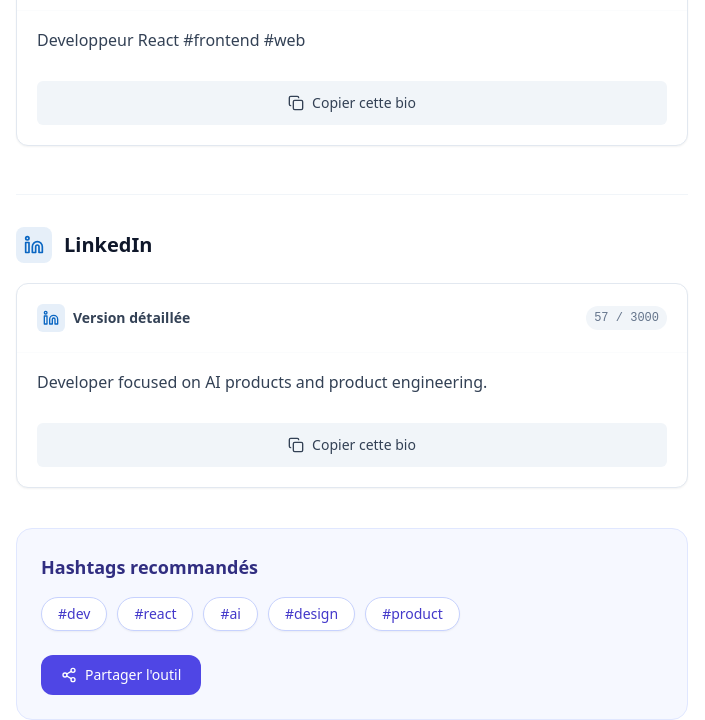
BioResults › copie un hashtag et un statut
The image size is (705, 720).
(page scrolled)
Click the button "#dev" at (74, 614), box [41,597,107,631]
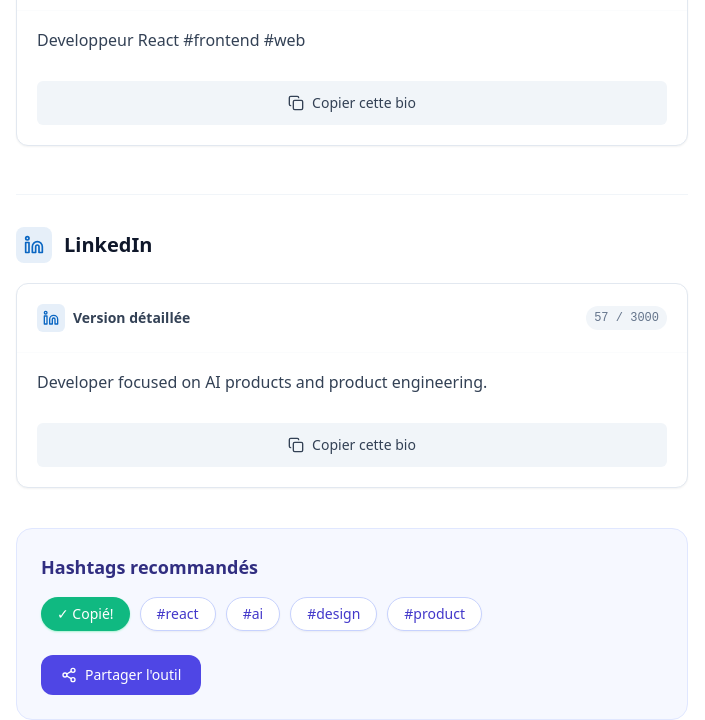
Now the button "✓ Copié!" is shown, box [41,597,130,631]
Click the button "Partager l'outil" at (121, 675), box [41,655,201,695]
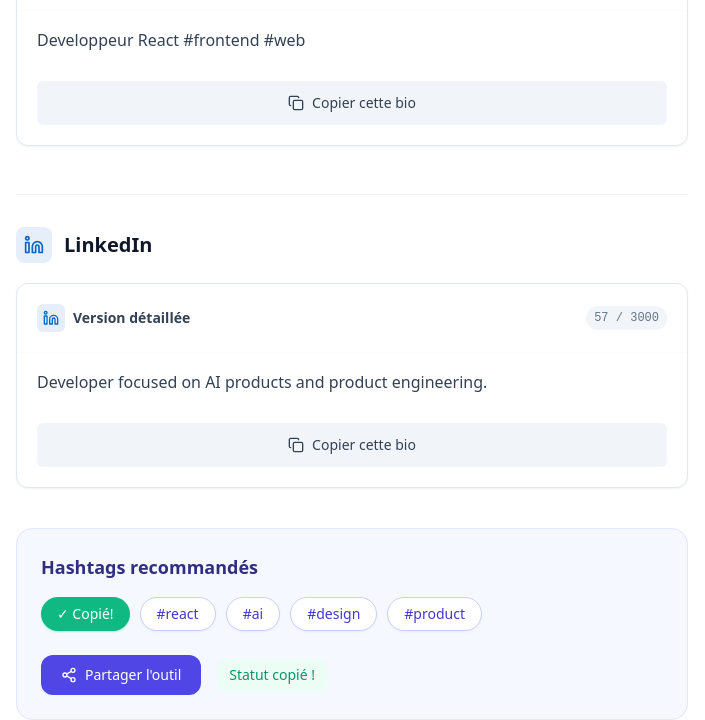
Now the text "Statut copié !" is shown, box [217,659,327,691]
